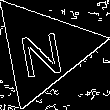N_N: (18, 21, 69, 78)
